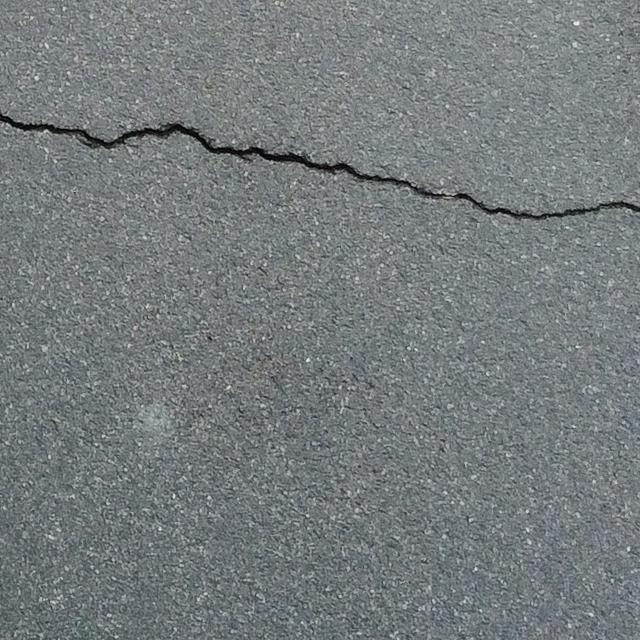TransverseCrack: (1, 114, 640, 223)
